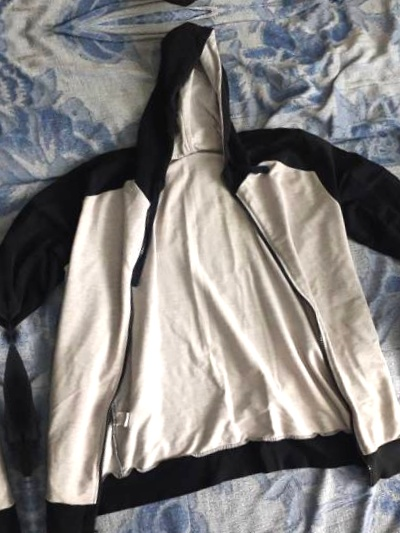Hoodie: (0, 0, 400, 533), (0, 43, 28, 533), (0, 0, 385, 34)
